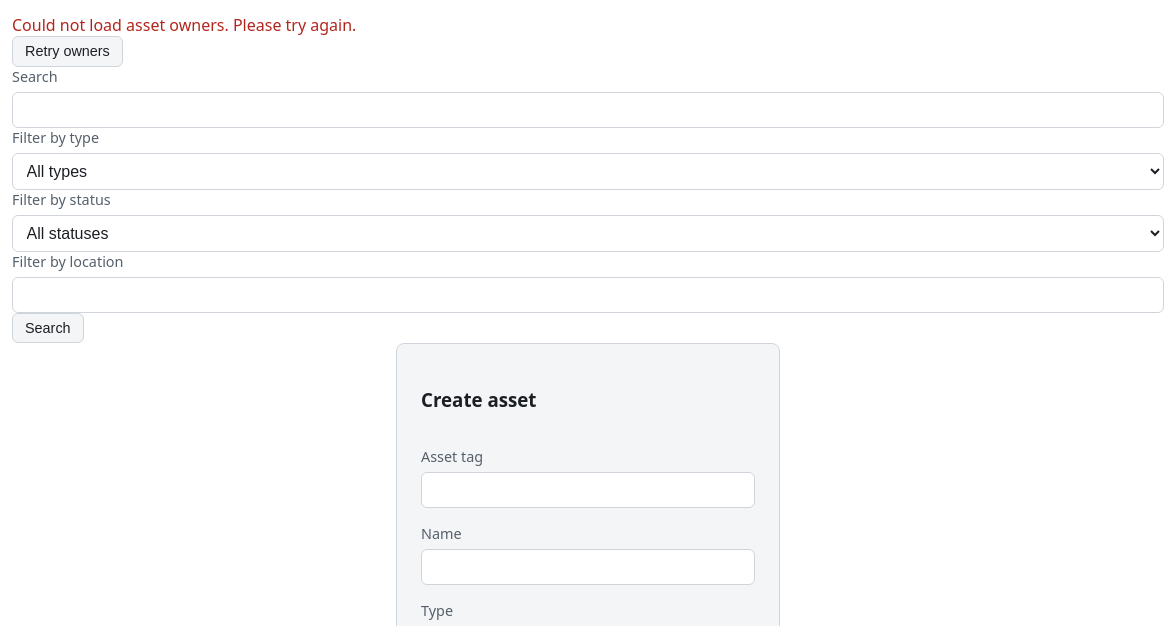
AssetsPage › does not allow creation before owner options load and offers retry on failure
Expected: the message shows "Could not load asset owners", [12,14,356,36]
Click the button "Retry owners": (67,51) [12,36,123,67]
(page scrolled)
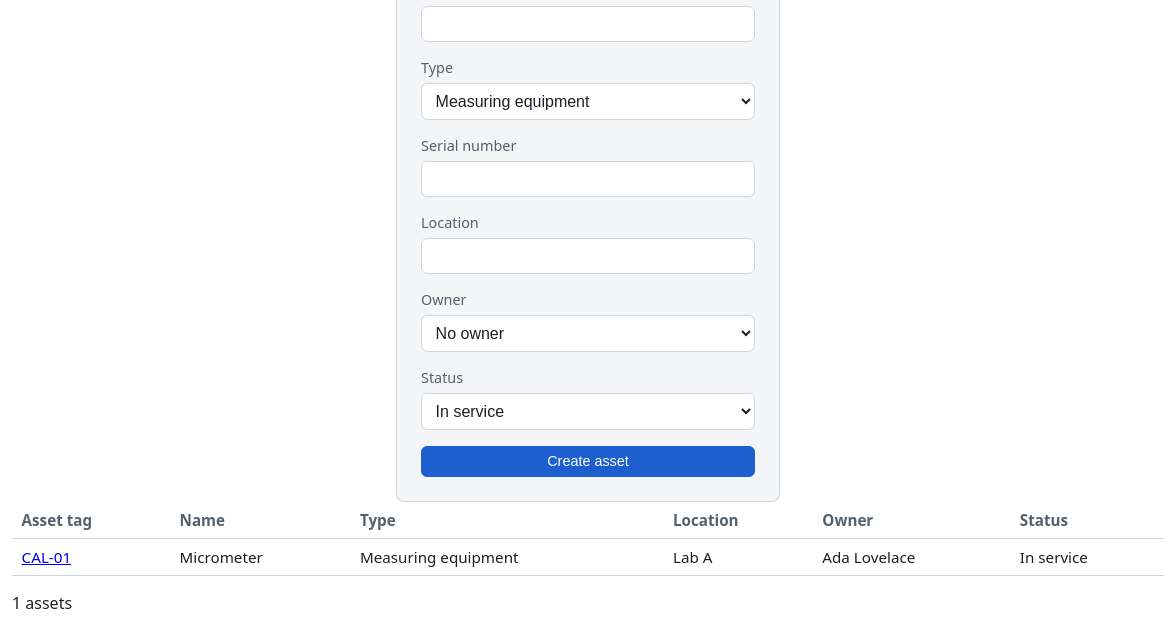
Expected: the button "Create asset" is enabled, [421,446,755,477]
